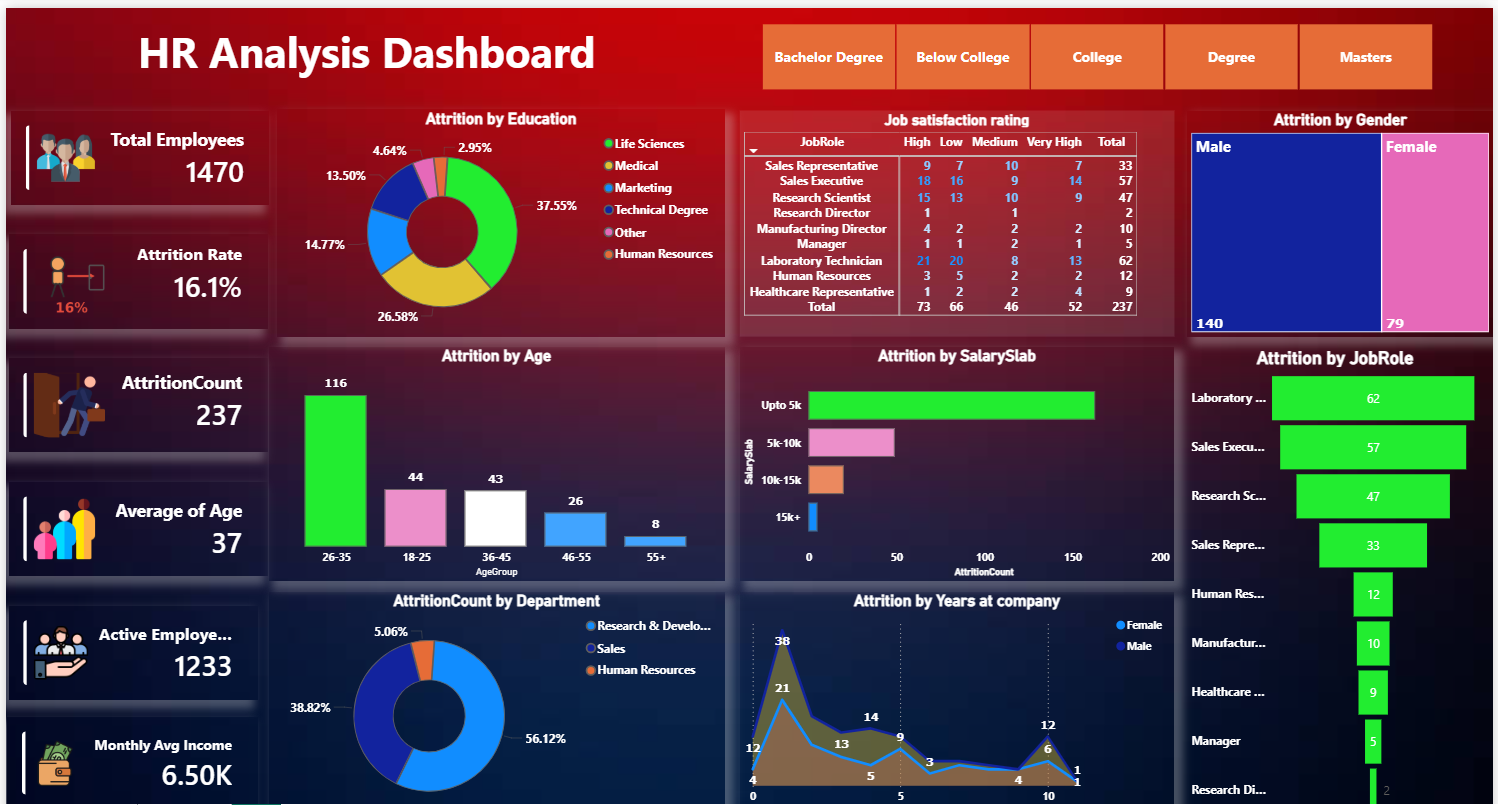

The page's visual inventory and layout, read from the dashboard file:
{"tool":"powerbi","page":{"name":"Page 1","canvas":[1700,950],"ordinal":0},"visuals":[{"type":"cardVisual","title":"count of employees","fields":{"Data":["HR_Analytics.Total Employees"]},"box":[5,116.7,295,108.3],"z":0},{"type":"cardVisual","title":"count of employees","fields":{"Data":["HR_Analytics.Attrition Rate"]},"box":[3.3,258.3,296.7,108.3],"z":1000},{"type":"cardVisual","title":"count of employees","fields":{"Data":["HR_Analytics.AttritionCount"]},"box":[3.3,400,296.7,108.3],"z":2000},{"type":"cardVisual","title":"Avg_age","fields":{"Data":["Avg(HR_Analytics.Age)"]},"box":[3.3,541.7,296.7,108.3],"z":3000},{"type":"cardVisual","title":"count of employees","fields":{"Data":["Avg(HR_Analytics.Avg Income)"]},"box":[1.7,810,286.7,106.7],"z":4000},{"type":"cardVisual","title":"count of employees","fields":{"Data":["HR_Analytics.Active Employees"]},"box":[3.3,683.3,285,108.3],"z":5000},{"type":"donutChart","title":"Attrition by Education","fields":{"Category":["HR_Analytics.EducationField"],"Y":["HR_Analytics.AttritionCount"]},"box":[310,115,511.7,260],"z":6000},{"type":"columnChart","title":"Attrition by Age","fields":{"Category":["HR_Analytics.AgeGroup"],"Y":["HR_Analytics.AttritionCount"]},"box":[300,386.7,521.7,268.3],"z":7000},{"type":"pivotTable","title":"Job satisfaction rating","fields":{"Rows":["HR_Analytics.JobRole"],"Columns":["HR_Analytics.job_satisfaction"],"Values":["HR_Analytics.AttritionCount"]},"box":[838.3,116.7,496.7,258.3],"z":8000},{"type":"barChart","title":"Attrition by SalarySlab","fields":{"Category":["HR_Analytics.SalarySlab"],"Y":["HR_Analytics.AttritionCount"]},"box":[838.3,386.7,496.7,268.3],"z":9000},{"type":"pieChart","fields":{"Category":["HR_Analytics.Department"],"Y":["HR_Analytics.AttritionCount"]},"box":[300,666.7,521.7,263.3],"z":10000},{"type":"areaChart","title":"Attrition by Years at company","fields":{"Category":["HR_Analytics.YearsAtCompany"],"Y":["HR_Analytics.AttritionCount"],"Series":["HR_Analytics.Gender"]},"box":[838.3,666.7,496.7,261.7],"z":11000},{"type":"treemap","title":"Attrition by Gender","fields":{"Group":["HR_Analytics.Gender"],"Values":["HR_Analytics.AttritionCount"]},"box":[1350,116.7,350,258.3],"z":12000},{"type":"textbox","box":[5,11.7,816.7,103.3],"z":13000},{"type":"funnel","title":"Attrition by JobRole","fields":{"Category":["HR_Analytics.JobRole"],"Y":["HR_Analytics.AttritionCount"]},"box":[1350,386.7,338.3,543.3],"z":14000},{"type":"slicer","fields":{"Values":["HR_Analytics.Education_group"]},"box":[838.3,11.7,815,88.3],"z":15000}]}

Visuals, with their boxes on the page's 1700x950 design canvas (x1, y1, x2, y2). These are canvas units, not pixel positions in the 1498x805 screenshot, which may show the page scaled, cropped or inside an application window:
"count of employees" cardVisual: [5,117,300,225]
"count of employees" cardVisual: [3,258,300,367]
"count of employees" cardVisual: [3,400,300,508]
"Avg_age" cardVisual: [3,542,300,650]
"count of employees" cardVisual: [2,810,288,917]
"count of employees" cardVisual: [3,683,288,792]
"Attrition by Education" donutChart: [310,115,822,375]
"Attrition by Age" columnChart: [300,387,822,655]
"Job satisfaction rating" pivotTable: [838,117,1335,375]
"Attrition by SalarySlab" barChart: [838,387,1335,655]
pieChart - HR_Analytics.Department x HR_Analytics.AttritionCount: [300,667,822,930]
"Attrition by Years at company" areaChart: [838,667,1335,928]
"Attrition by Gender" treemap: [1350,117,1700,375]
textbox: [5,12,822,115]
"Attrition by JobRole" funnel: [1350,387,1688,930]
slicer - HR_Analytics.Education_group: [838,12,1653,100]
